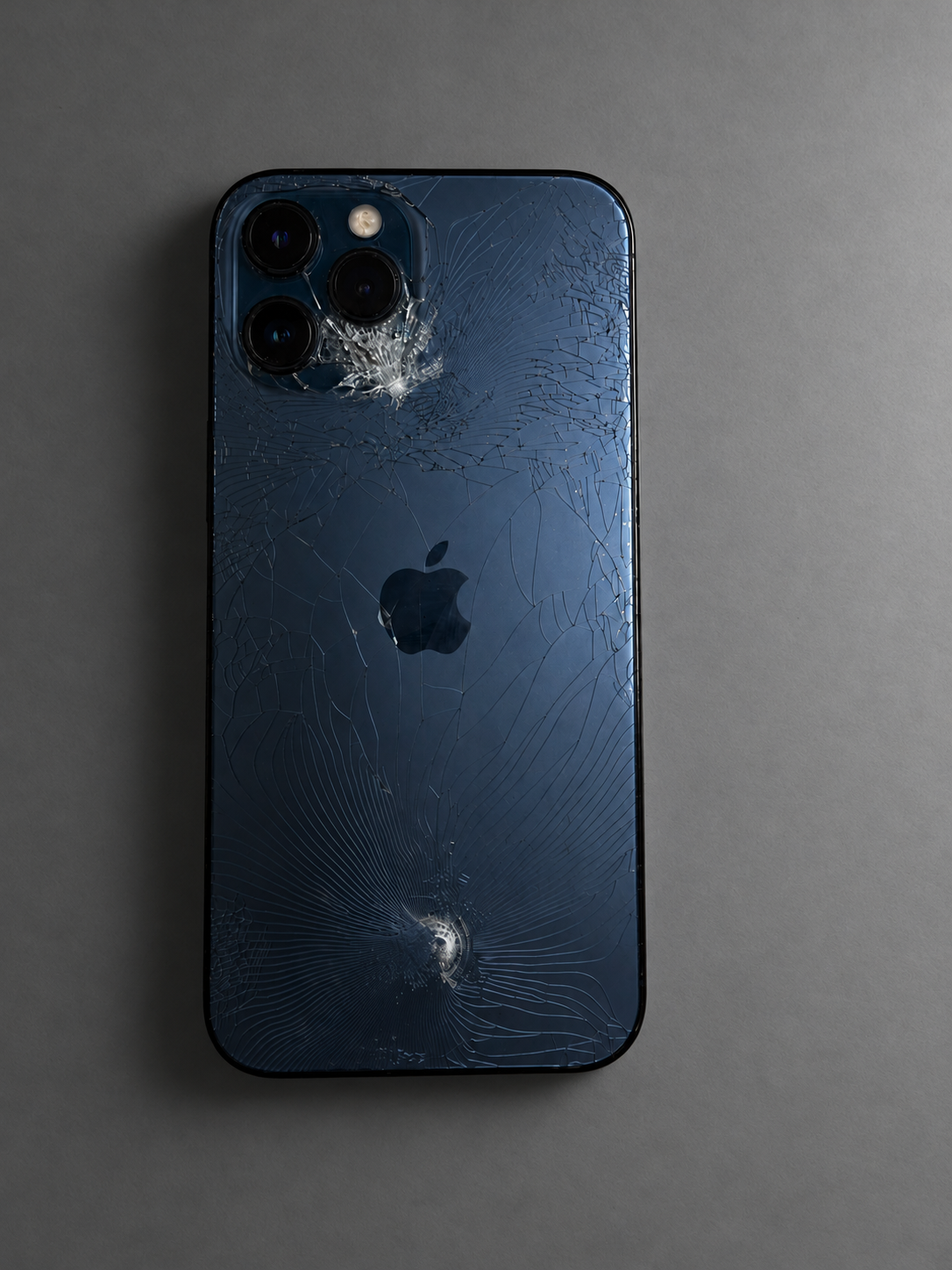iphone_12_pro_max_Crack: (125, 104, 737, 1133)
